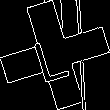L_N: (33, 27, 77, 83)
